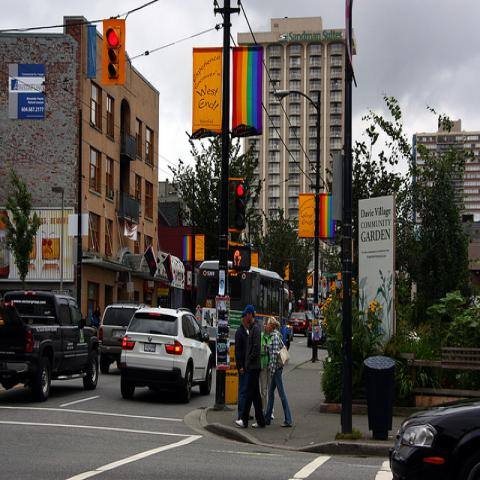bus: (196, 260, 290, 352)
car: (120, 304, 214, 404), (388, 405, 479, 475), (97, 306, 138, 374), (307, 316, 327, 349), (288, 312, 310, 338), (283, 318, 293, 350), (304, 311, 312, 323), (313, 306, 321, 316)
truck: (0, 293, 100, 402)
